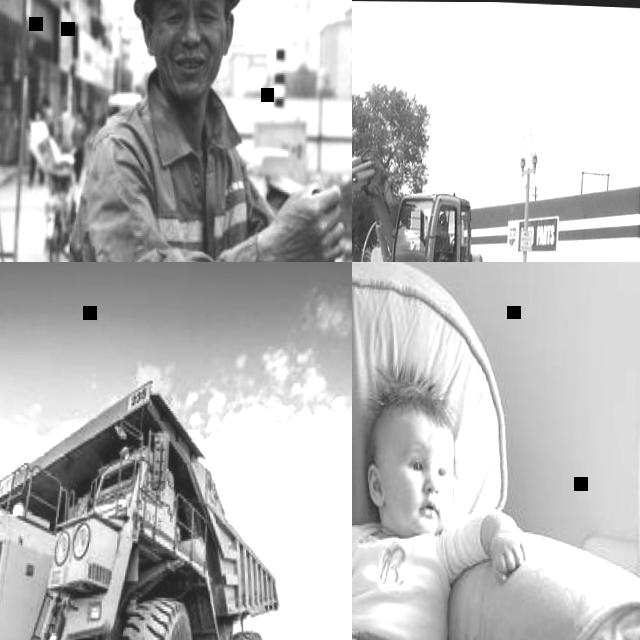NO-Hardhat: (372, 381, 456, 446), (42, 98, 50, 106), (75, 109, 82, 115), (35, 106, 41, 113)
NO-Mask: (155, 37, 217, 97), (396, 493, 449, 534)
NO-Safety Vest: (352, 529, 449, 640), (70, 108, 86, 180), (59, 114, 73, 139), (72, 125, 85, 147), (29, 120, 42, 142), (45, 114, 54, 135)
Person: (51, 0, 352, 262), (352, 374, 533, 640), (25, 105, 47, 187), (55, 103, 74, 150), (40, 98, 56, 138)
Safety Vest: (56, 63, 256, 262)
machinery: (0, 359, 287, 640), (352, 124, 490, 262)
